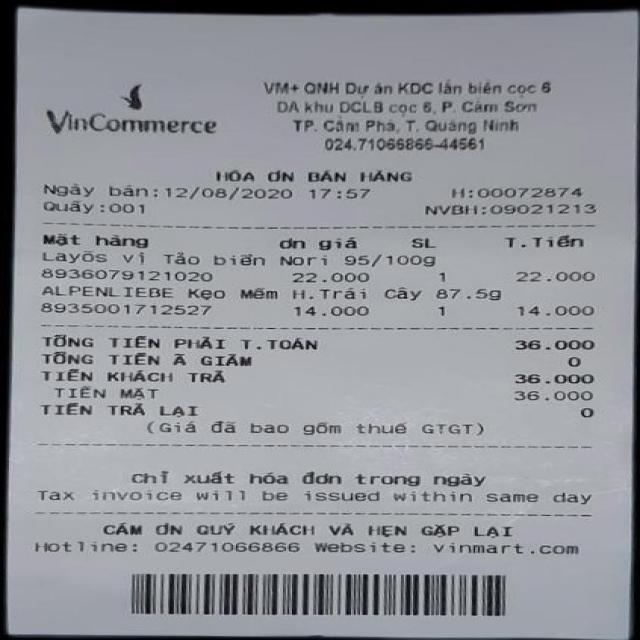Date: (166, 184, 302, 206)
Store_Name: (28, 69, 240, 156)
amount_number: (504, 334, 599, 356)
label_total: (42, 330, 322, 354)
